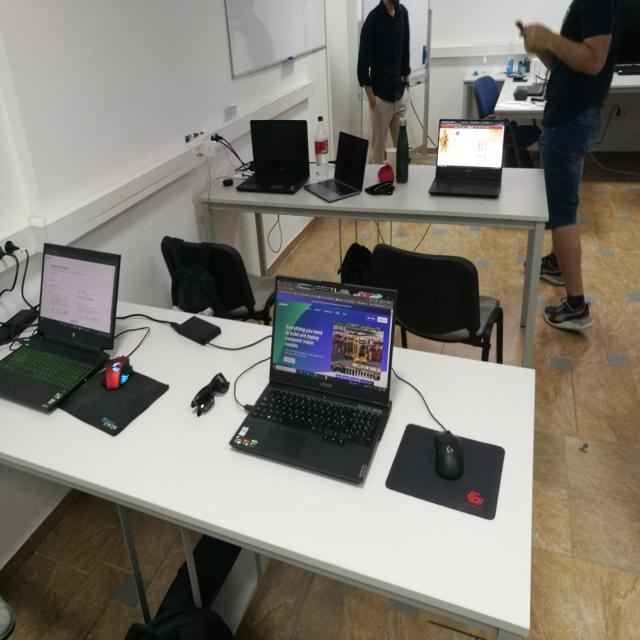Laptops_bbox: (234, 220, 401, 530)
